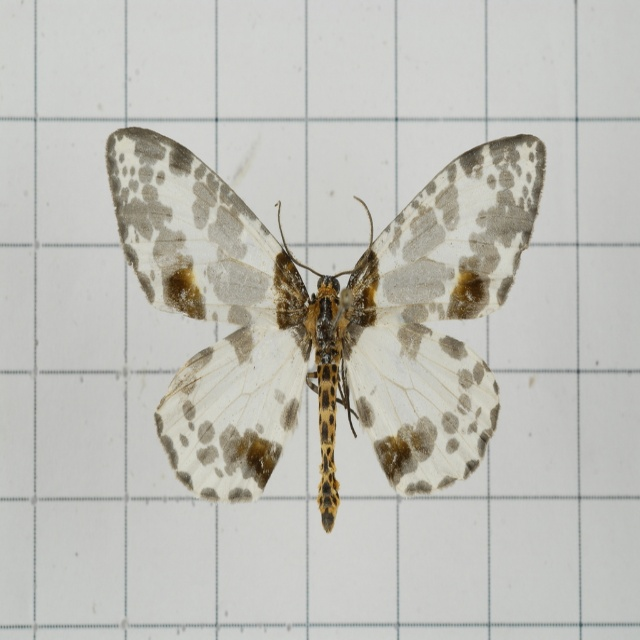Butterfly: (112, 130, 544, 515)
